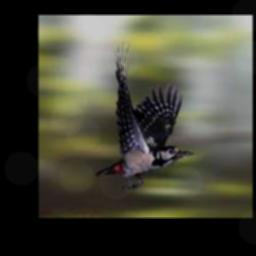Woodpecker: (95, 41, 194, 189)
